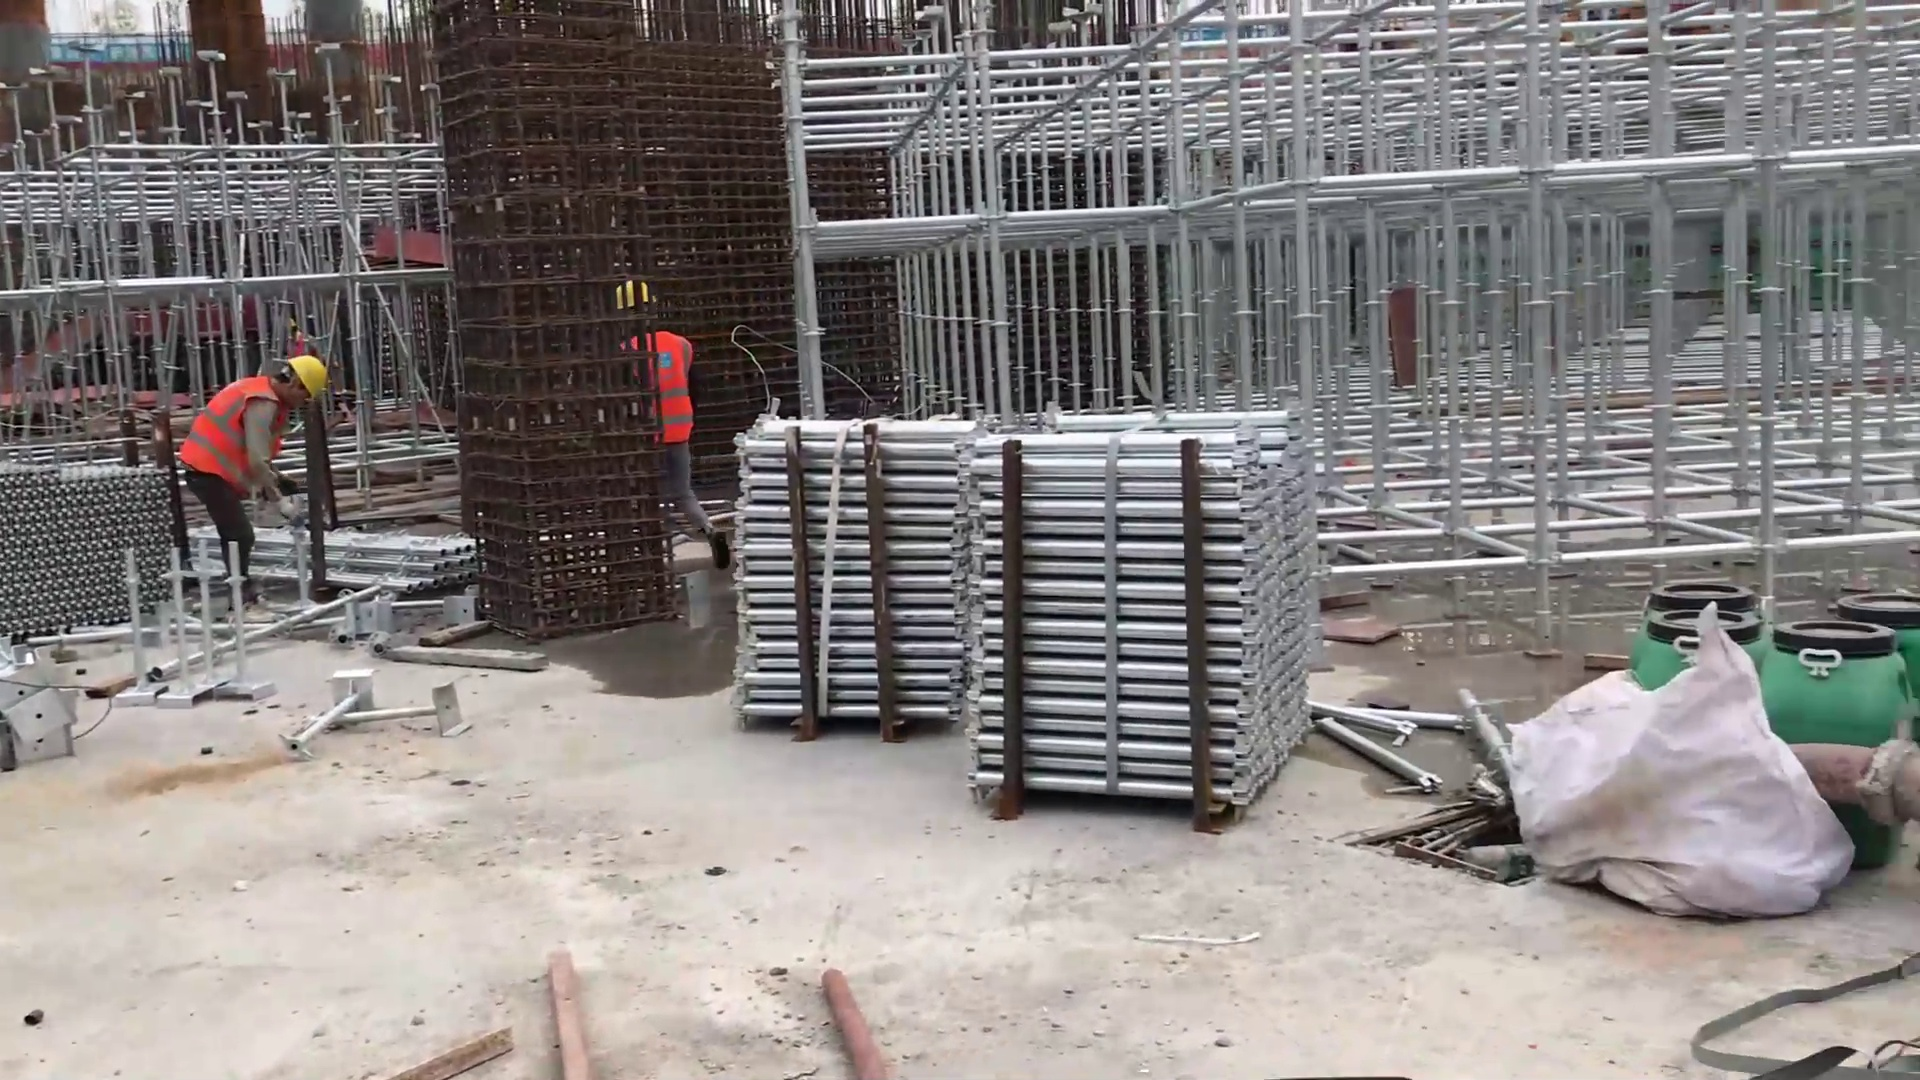helmet: (286, 351, 328, 406), (612, 278, 660, 311)
person: (604, 274, 736, 575), (184, 349, 326, 612)
scaffold: (955, 400, 1326, 841), (718, 398, 967, 748), (1, 455, 201, 661), (230, 520, 496, 593)
vest: (191, 370, 281, 492), (644, 331, 700, 450)
